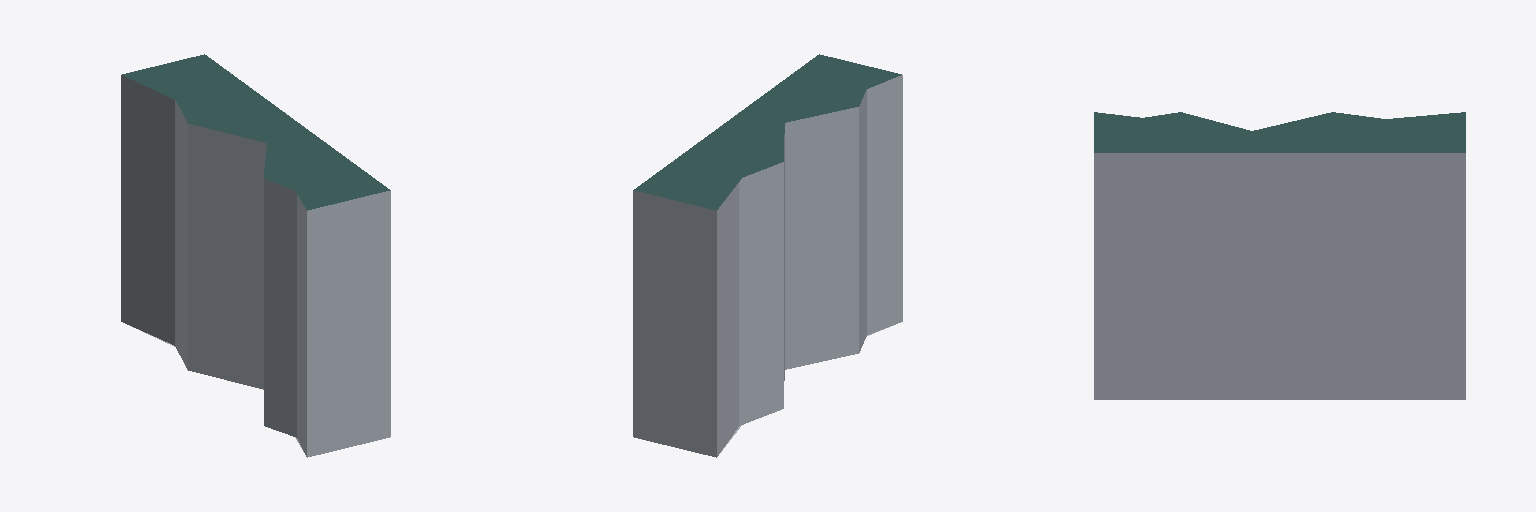
The model's file is Grey_Cliff_Green_Top_01.obj.
3 views of the same model, side by side, from view 1: azimuth 30°, elevation 25°; view 2: azimuth 150°, elevation 25°; view 3: azimuth 270°, elevation 25° (orthographic).
Visible parts, largest first — view 1: Mesh1_Grey_Cliff_Green_Top_Model; view 2: Mesh1_Grey_Cliff_Green_Top_Model; view 3: Mesh1_Grey_Cliff_Green_Top_Model.
Boxes of the visible parts, box(x1,y1,x2,y2) form: Mesh1_Grey_Cliff_Green_Top_Model: box(121, 54, 390, 457); Mesh1_Grey_Cliff_Green_Top_Model: box(633, 54, 902, 457); Mesh1_Grey_Cliff_Green_Top_Model: box(1094, 112, 1465, 399).
Size of the model in its own units: 0.78 by 2.2 by 3.